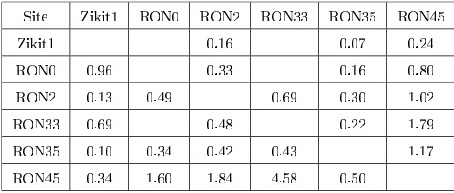column: (259, 1, 308, 193), (13, 1, 61, 193), (397, 1, 445, 193), (329, 1, 375, 193), (199, 1, 241, 193), (139, 1, 179, 193), (80, 1, 118, 192)
row: (1, 90, 454, 104), (1, 10, 454, 23), (1, 63, 454, 76), (1, 118, 454, 131), (1, 171, 454, 184), (1, 37, 454, 49), (1, 145, 454, 157)
